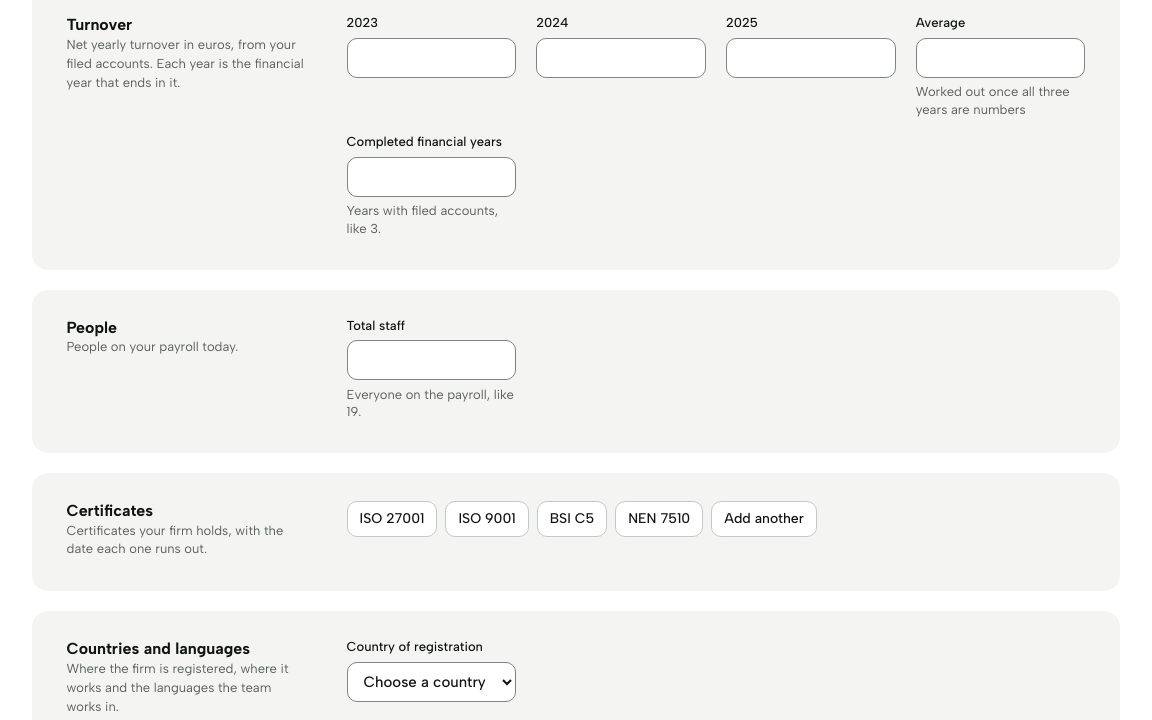
firm profile page › reads the profile after mount and saves a change with no button
(page scrolled)
Type "19" into the field labelled "Total staff" at (431, 360), box [346, 340, 516, 380]
(page scrolled)
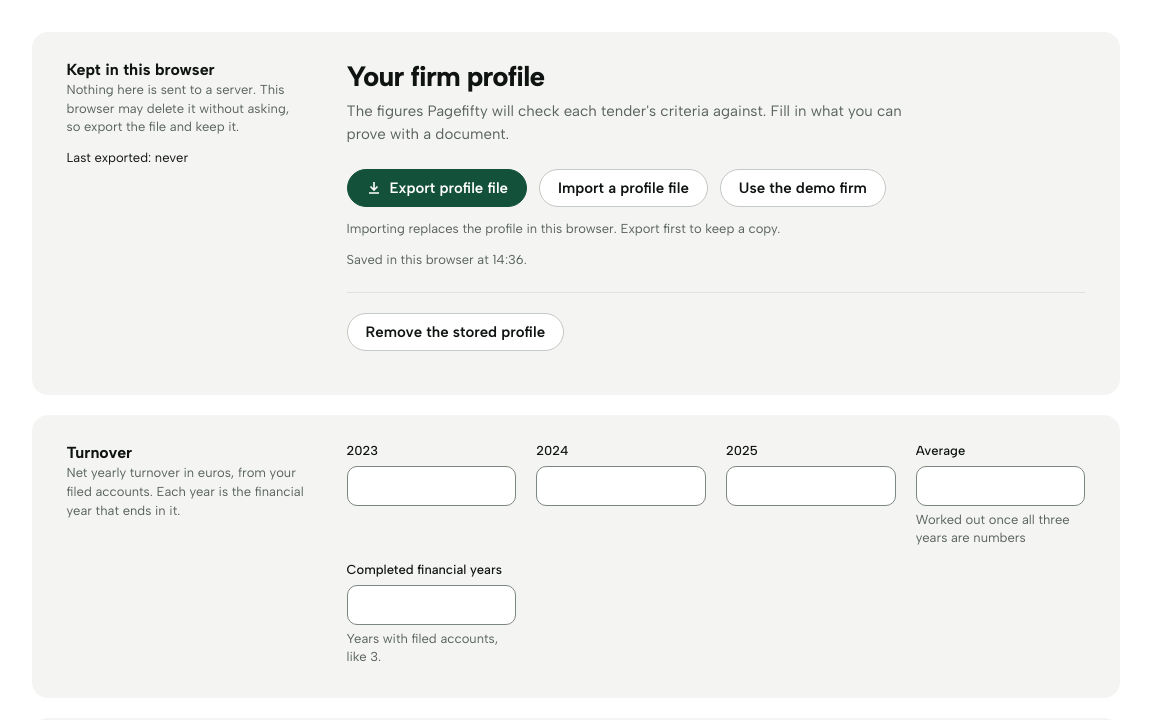
Result: the message reads "Saved in this browser at 14:36." at [346, 252, 527, 267]
